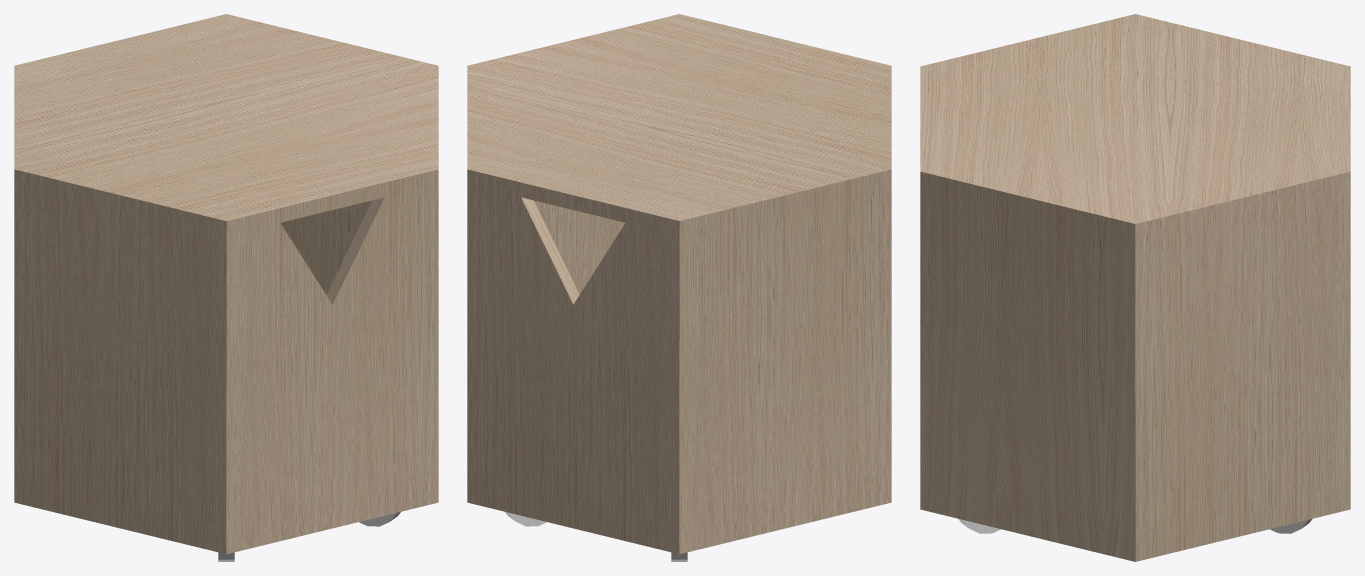
The model's file is standwithmat.fbx.
3 renders of one model, left to right at view 1: azimuth 30°, elevation 25°; view 2: azimuth 150°, elevation 25°; view 3: azimuth 270°, elevation 25°, orthographic.
Visible parts, largest first — view 1: Mass Element <Standard> Body; view 2: Mass Element <Standard> Body; view 3: Mass Element <Standard> Body.
Part boxes in pixels (left/top/right/bottom): Mass Element <Standard> Body: left=14, top=14, right=438, bottom=554; Mass Element <Standard> Body: left=467, top=14, right=891, bottom=554; Mass Element <Standard> Body: left=920, top=14, right=1350, bottom=561.
Bounding box in the file's own units: 1.52 × 1.27 × 1.32.
